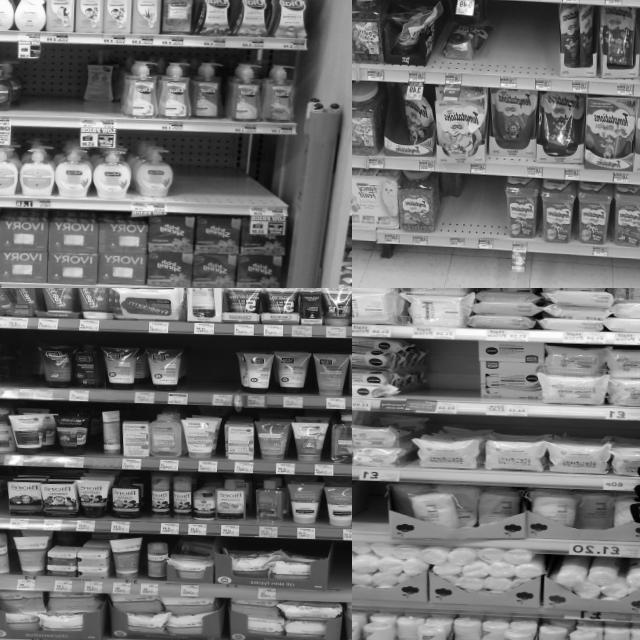100% O.O.S: (420, 342, 476, 413), (186, 348, 236, 404), (0, 346, 37, 399), (352, 482, 382, 540), (332, 541, 352, 602)
100- O.O.S: (174, 134, 254, 213), (20, 49, 84, 127), (518, 4, 557, 90), (492, 2, 519, 88), (475, 177, 503, 250), (459, 174, 476, 247)
